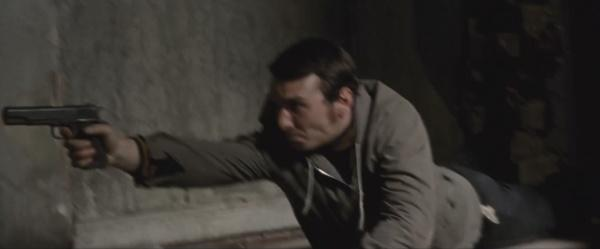Gun: (3, 104, 108, 167)
